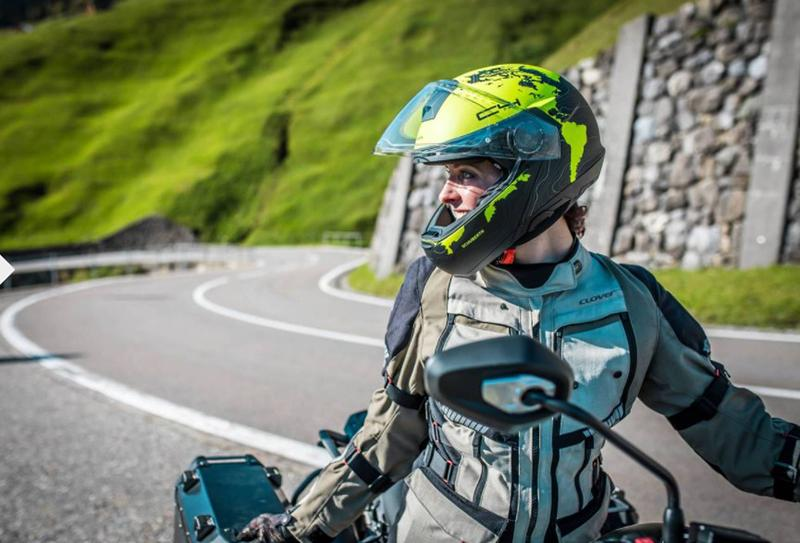helmet: (357, 52, 655, 294)
